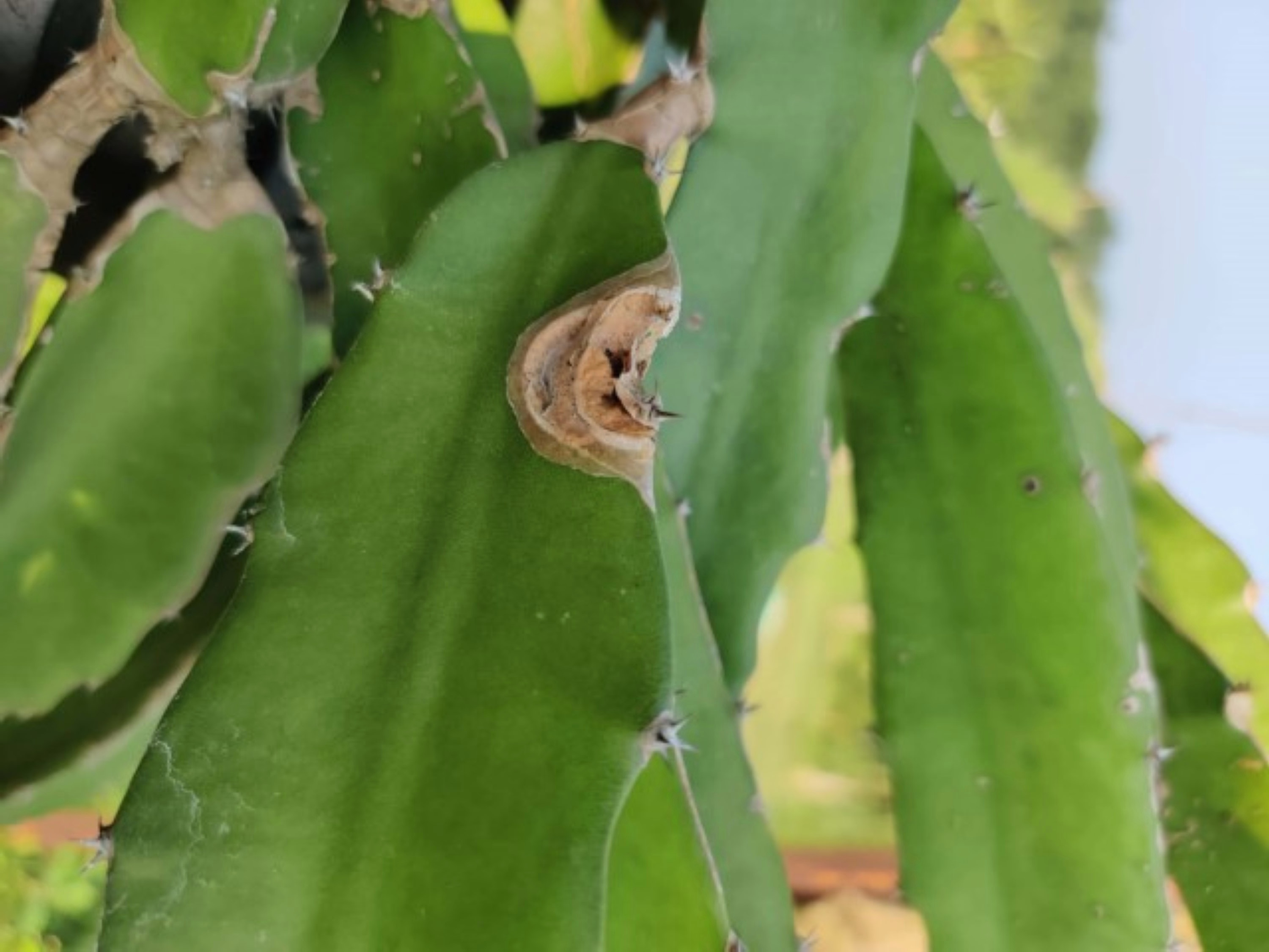stemcanker: (474, 195, 755, 548)
